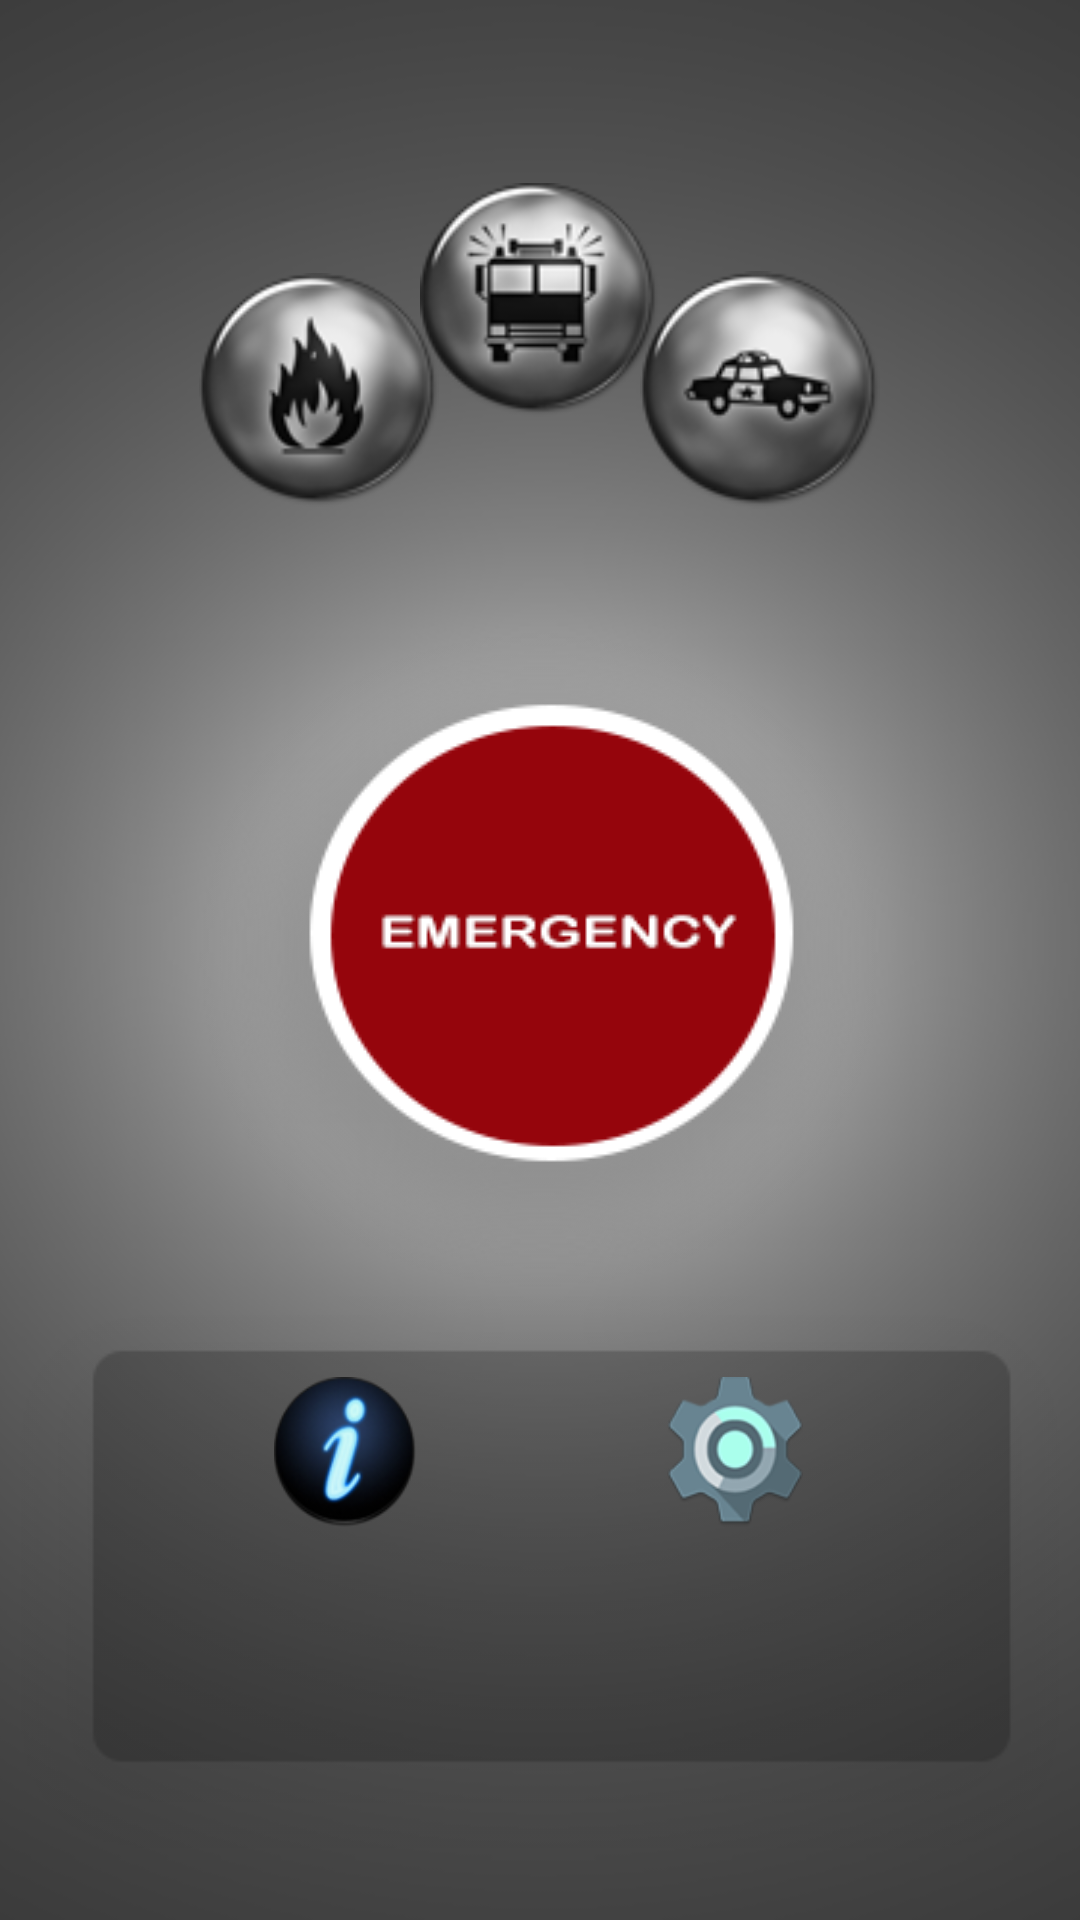

Locate icon controls on the screen. Image size 1080x1920, boxes as Rect(x1, y1, x2, y2).
fire but: Rect(202, 276, 432, 499)
info but: Rect(274, 1377, 414, 1525)
police but: Rect(640, 270, 880, 510)
settings but: Rect(669, 1377, 801, 1521)
